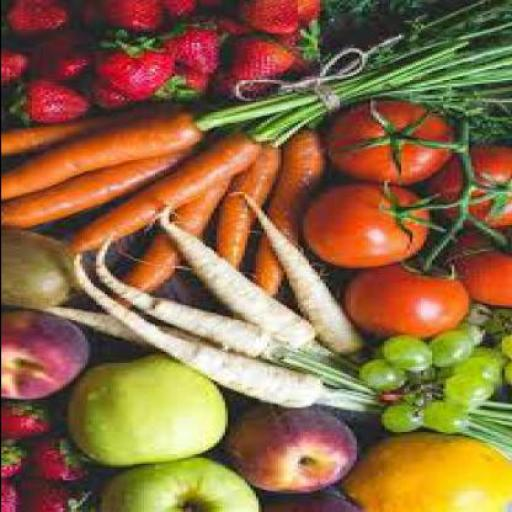biodegradable: (200, 0, 510, 145), (76, 249, 324, 406), (64, 128, 266, 252), (154, 208, 327, 348), (95, 232, 280, 356), (241, 186, 369, 358), (100, 176, 238, 314), (65, 353, 232, 464), (3, 143, 210, 227), (2, 114, 204, 200), (343, 427, 511, 512), (302, 179, 440, 267), (252, 126, 324, 292), (330, 98, 461, 184), (232, 403, 360, 491), (344, 256, 476, 336), (2, 102, 204, 153), (101, 456, 266, 510), (215, 151, 288, 266), (3, 307, 92, 398), (288, 341, 389, 406), (2, 228, 82, 309), (439, 146, 511, 226), (98, 28, 179, 99), (28, 303, 143, 343), (5, 76, 98, 123), (174, 14, 244, 72), (215, 58, 308, 101), (462, 226, 510, 308), (232, 34, 311, 82), (31, 34, 103, 78), (78, 0, 177, 32), (258, 484, 364, 510), (28, 436, 92, 478), (3, 398, 70, 438), (5, 0, 81, 32), (22, 478, 95, 510), (238, 0, 305, 33), (381, 331, 434, 371), (154, 66, 210, 100), (361, 358, 411, 390), (422, 397, 470, 430), (88, 79, 134, 113), (383, 397, 428, 430), (290, 24, 328, 63), (437, 329, 481, 361), (445, 372, 495, 398), (478, 342, 510, 382), (3, 434, 30, 478), (3, 46, 34, 84), (450, 320, 495, 346), (450, 354, 501, 376), (389, 389, 433, 413), (484, 307, 512, 339), (3, 477, 25, 510), (170, 1, 230, 13), (464, 302, 498, 322), (414, 363, 445, 382), (497, 328, 511, 360), (470, 322, 490, 344), (302, 1, 324, 20), (470, 393, 490, 411), (503, 357, 511, 383)
